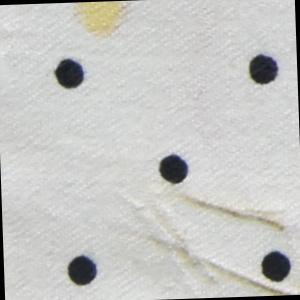Oil Stain: (121, 181, 300, 300)
Stain: (72, 2, 128, 43)
